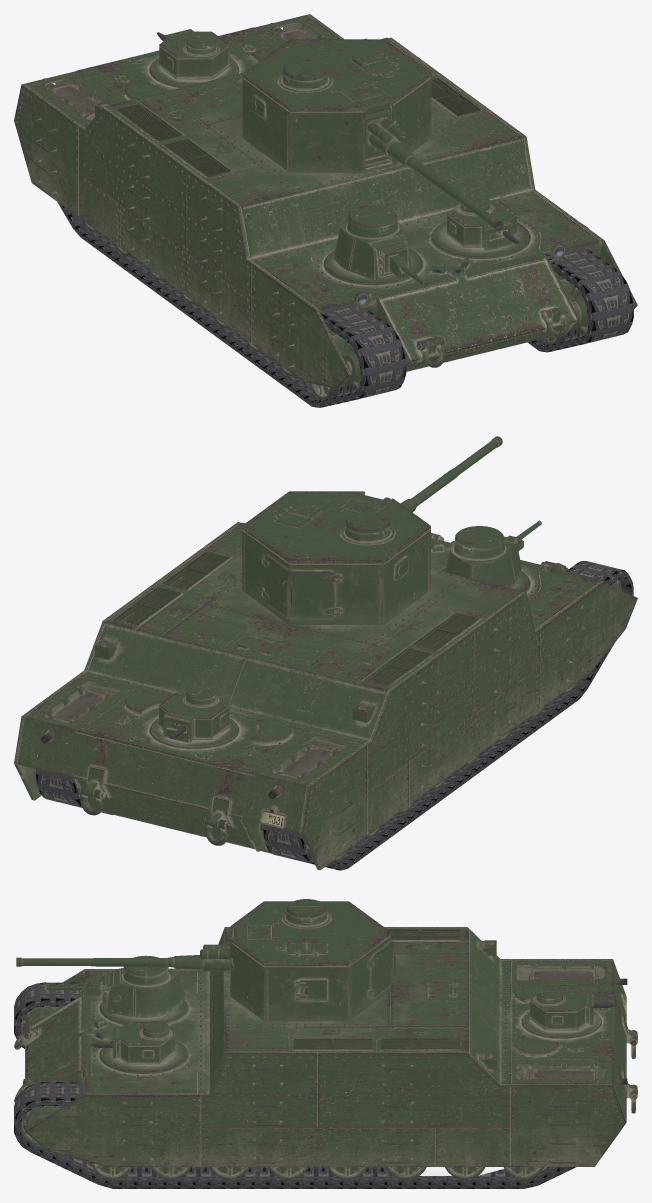
3 renders of one model, top to bottom at view 1: azimuth 30°, elevation 25°; view 2: azimuth 150°, elevation 25°; view 3: azimuth 270°, elevation 25°, orthographic. The views are drawn at different scales.
Parts seen in each view (by area): view 1: 0.002_Material_0, 0.003_Material.001_0, 3_Material.003_0, 1_Material.003_0, 0.001_Material.002_0, 5_Material.004_0; view 2: 0.002_Material_0, 0.003_Material.001_0, 3_Material.003_0, 1_Material.003_0, 0.001_Material.002_0; view 3: 0.002_Material_0, 0.003_Material.001_0, 1_Material.003_0, 7_Material.004_0, 0.001_Material.002_0, 3_Material.003_0.
Part boxes in pixels (x1,y1,x2,y2): 0.002_Material_0: (14, 14, 637, 388); 0.003_Material.001_0: (242, 39, 431, 172); 3_Material.003_0: (57, 202, 406, 407); 1_Material.003_0: (527, 247, 633, 352); 0.001_Material.002_0: (365, 109, 502, 230); 5_Material.004_0: (82, 220, 360, 399); 0.002_Material_0: (14, 520, 637, 870); 0.003_Material.001_0: (242, 491, 430, 624); 3_Material.003_0: (263, 561, 633, 870); 1_Material.003_0: (35, 693, 113, 814); 0.001_Material.002_0: (383, 436, 502, 512); 0.002_Material_0: (14, 927, 637, 1166); 0.003_Material.001_0: (230, 899, 395, 1022); 1_Material.003_0: (14, 1082, 575, 1188); 7_Material.004_0: (20, 1106, 543, 1179); 0.001_Material.002_0: (16, 937, 233, 971); 3_Material.003_0: (14, 982, 83, 1048).
Bounding box in the file's own units: 4.77 × 3.45 × 9.28.
6 materials, 5 textured.
